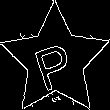P_N: (31, 30, 80, 90)
